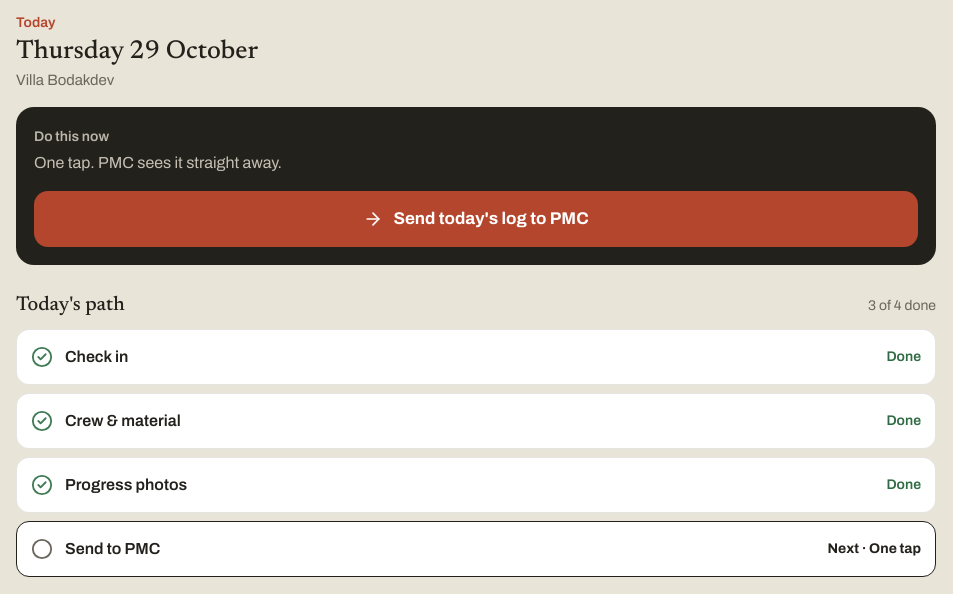
Test: Engineer Today — the screen › when everything is logged, one tap sends it to PMC
Step 1. Click the button with test id "today-action" → (476, 219), box [34,191,918,247]
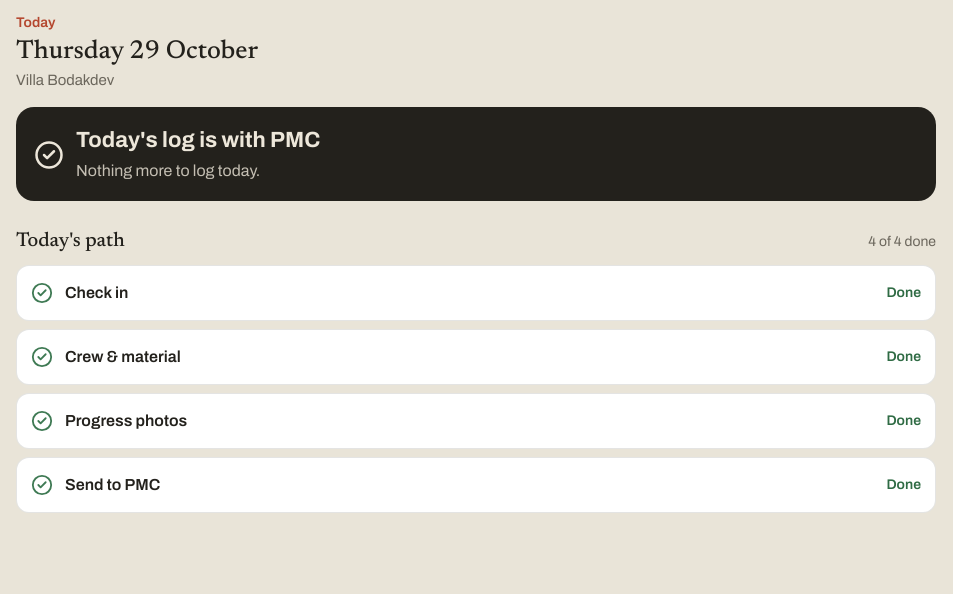
Check: the text "Today's log is with PMC" is shown, box [76,127,320,154]
Check: the button with test id "today-action" is gone
